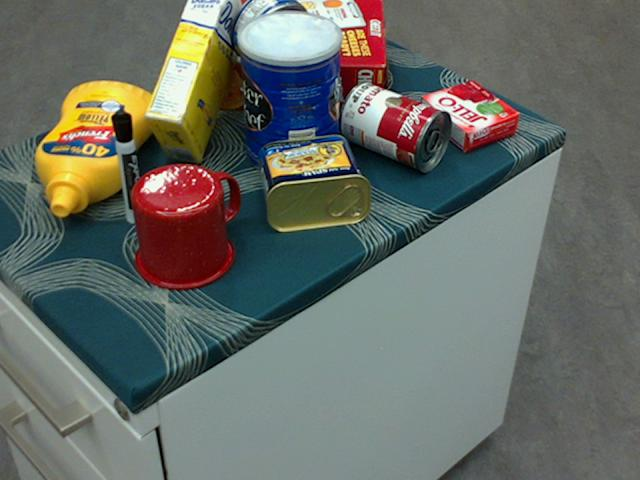cracker_box: (193, 0, 384, 112)
gelatin_box: (418, 81, 518, 150)
large_marker: (109, 110, 146, 222)
master_chef_can: (237, 10, 341, 179)
mug: (131, 161, 241, 289)
mustard_bottle: (34, 81, 156, 216)
potted_meat_can: (255, 132, 371, 233)
sugar_box: (144, 0, 248, 164)
tomato_soup_can: (339, 81, 452, 171)
tuna_fish_can: (230, 0, 310, 71)
